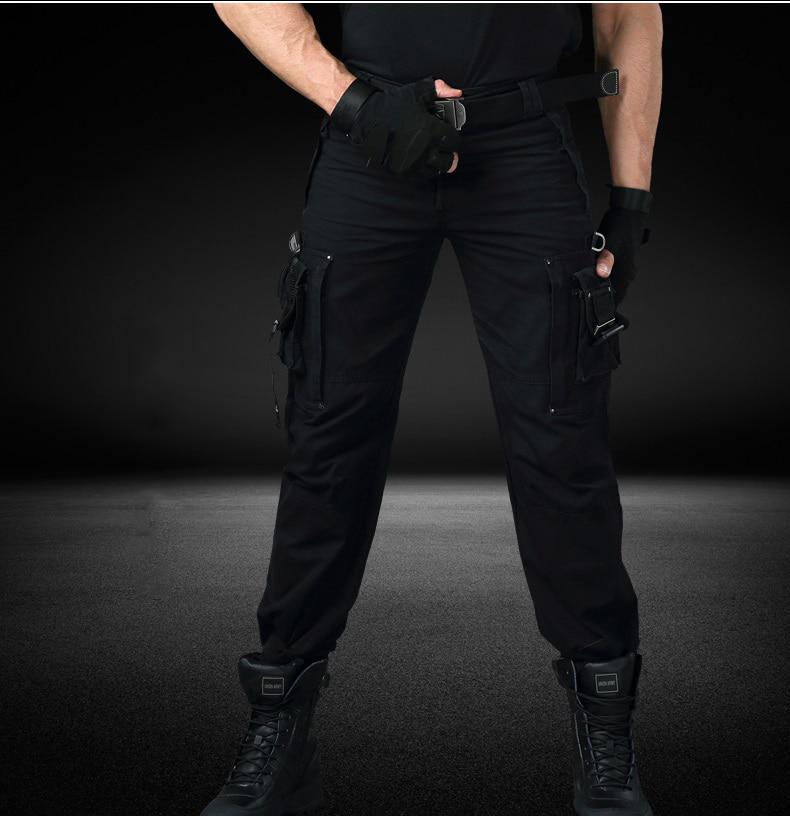pants: (217, 72, 638, 684)
